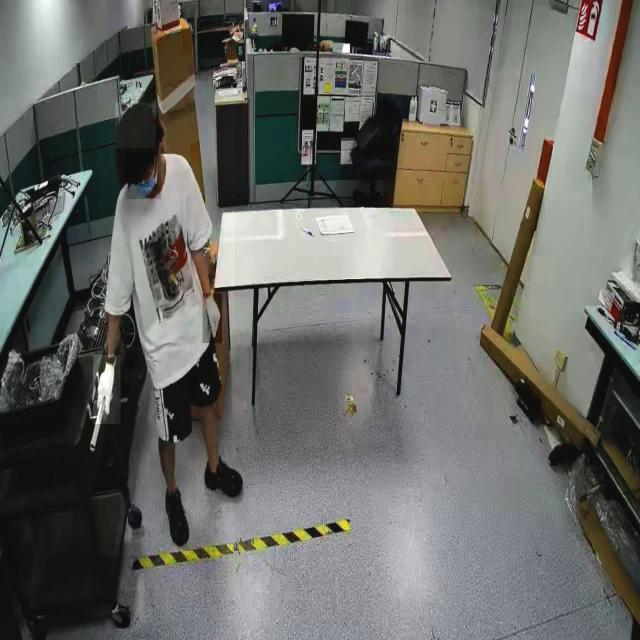face_mask: (125, 153, 162, 199)
hand_glove: (92, 355, 120, 425), (202, 293, 222, 343)
head_nohelmet: (115, 102, 156, 150)
person: (97, 82, 235, 556)
shoes: (199, 450, 244, 508), (163, 481, 193, 548)
